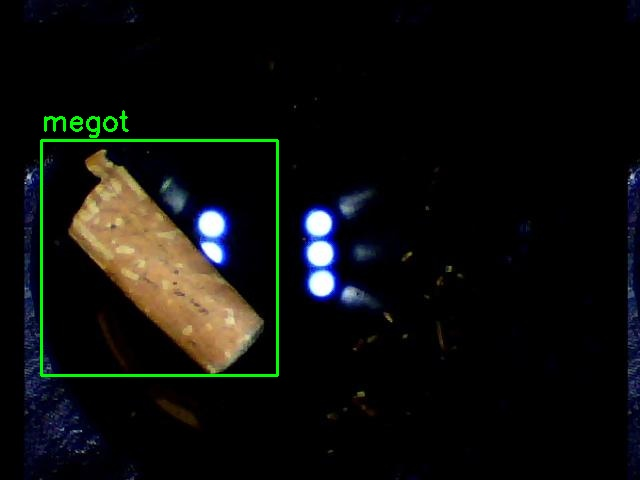megot: (41, 140, 277, 375)
